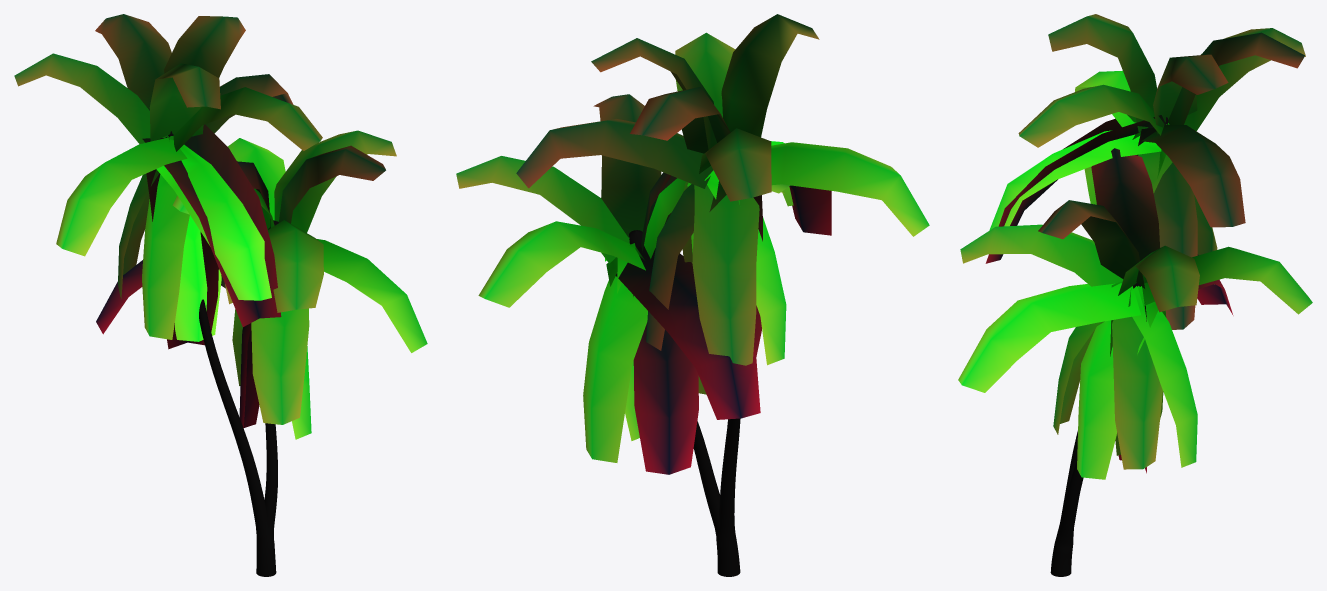
File: SM_Palm6_9.fbx
3 views of the same model, side by side, from view 1: azimuth 30°, elevation 25°; view 2: azimuth 150°, elevation 25°; view 3: azimuth 270°, elevation 25° (orthographic). The views are drawn at different scales.
Visible parts, largest first — view 1: SM_Palm6_9; view 2: SM_Palm6_9; view 3: SM_Palm6_9.
Part boxes in pixels (x1,y1,x2,y2): SM_Palm6_9: (14,14,427,576); SM_Palm6_9: (456,14,929,576); SM_Palm6_9: (958,14,1312,576).
Size of the model in its own units: 871 by 1143 by 695.
